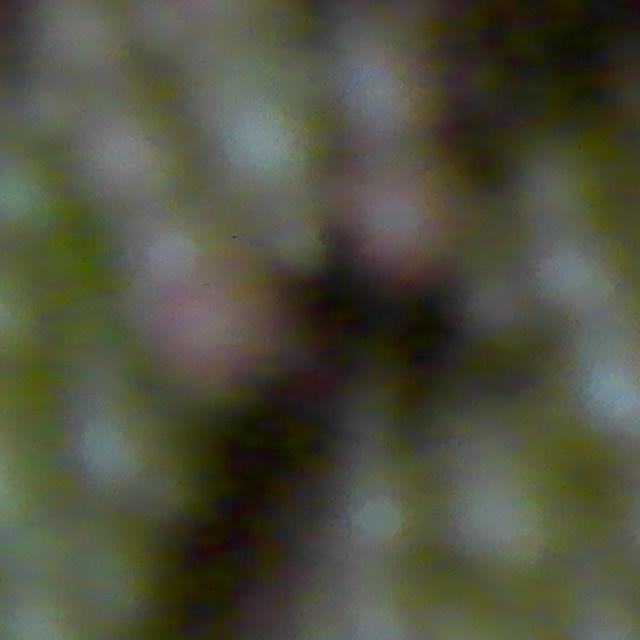SeaGrape: (428, 419, 569, 579), (156, 250, 282, 389), (349, 145, 460, 283), (218, 96, 320, 194), (0, 153, 66, 243)
